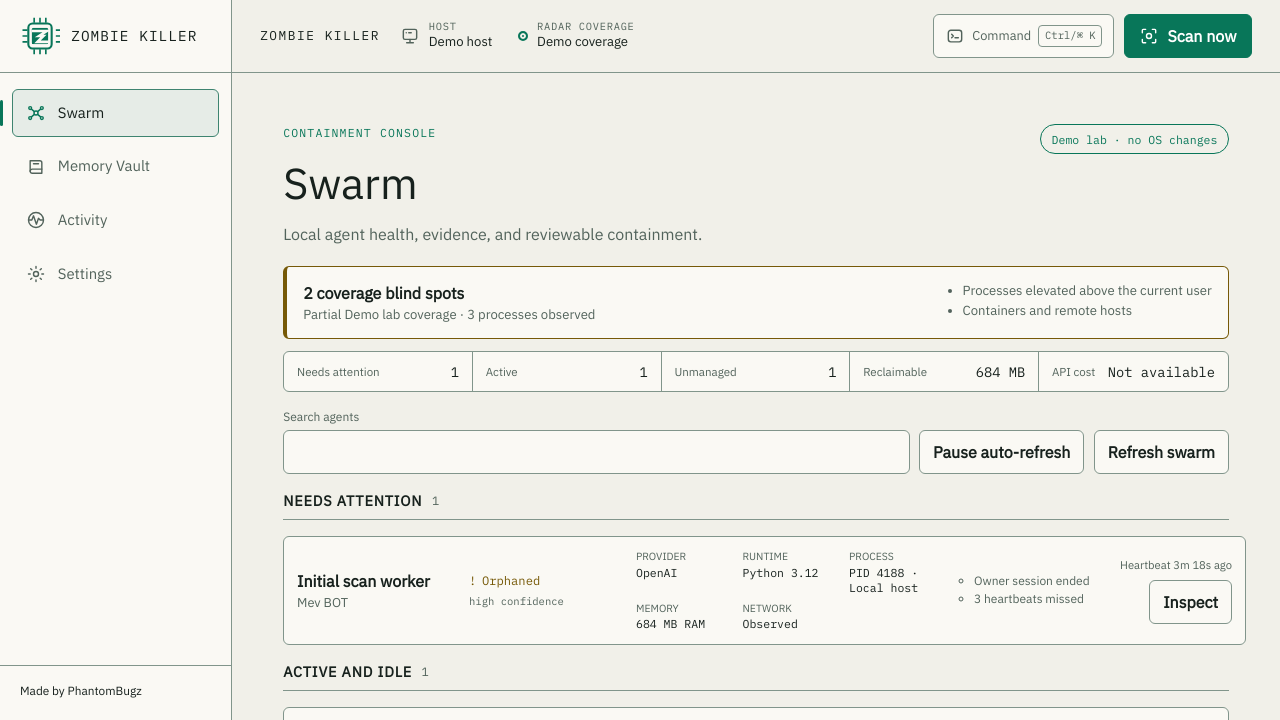
Test case: Containment Console shell › uses a fresh scan when returning to Swarm after an earlier Global Scan
(page scrolled)
Check: the text "Initial scan worker" is shown, box [297, 571, 430, 591]
Click the button "Scan now" at (1188, 36), box [1124, 14, 1252, 58]
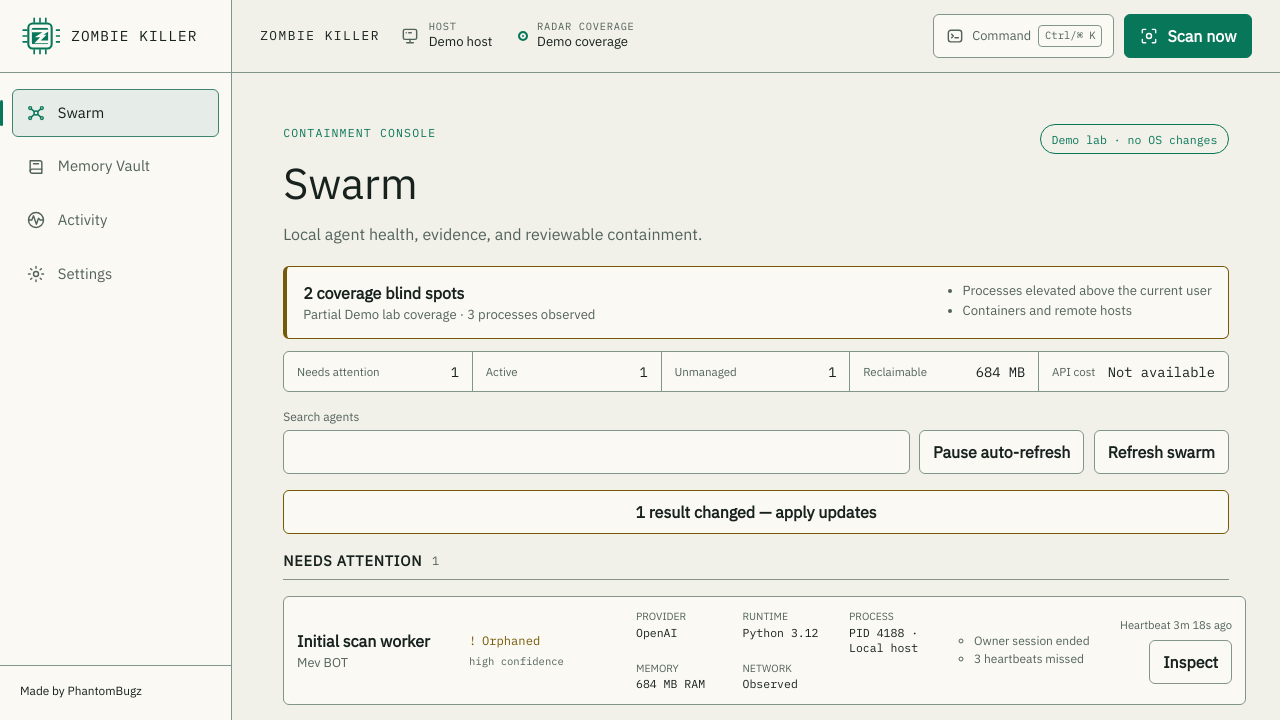
Click the link "Activity" at (67, 220), box [26, 210, 107, 230]
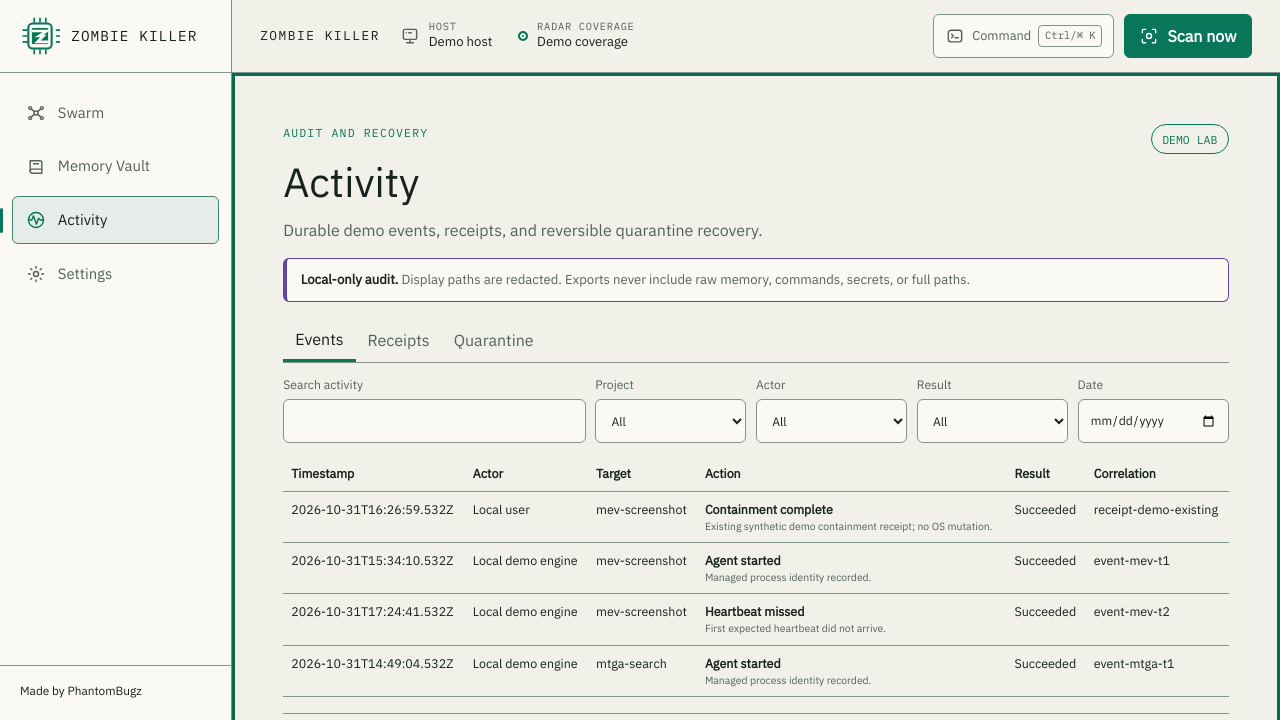
Click the link "Swarm" at (65, 113), box [26, 103, 104, 123]
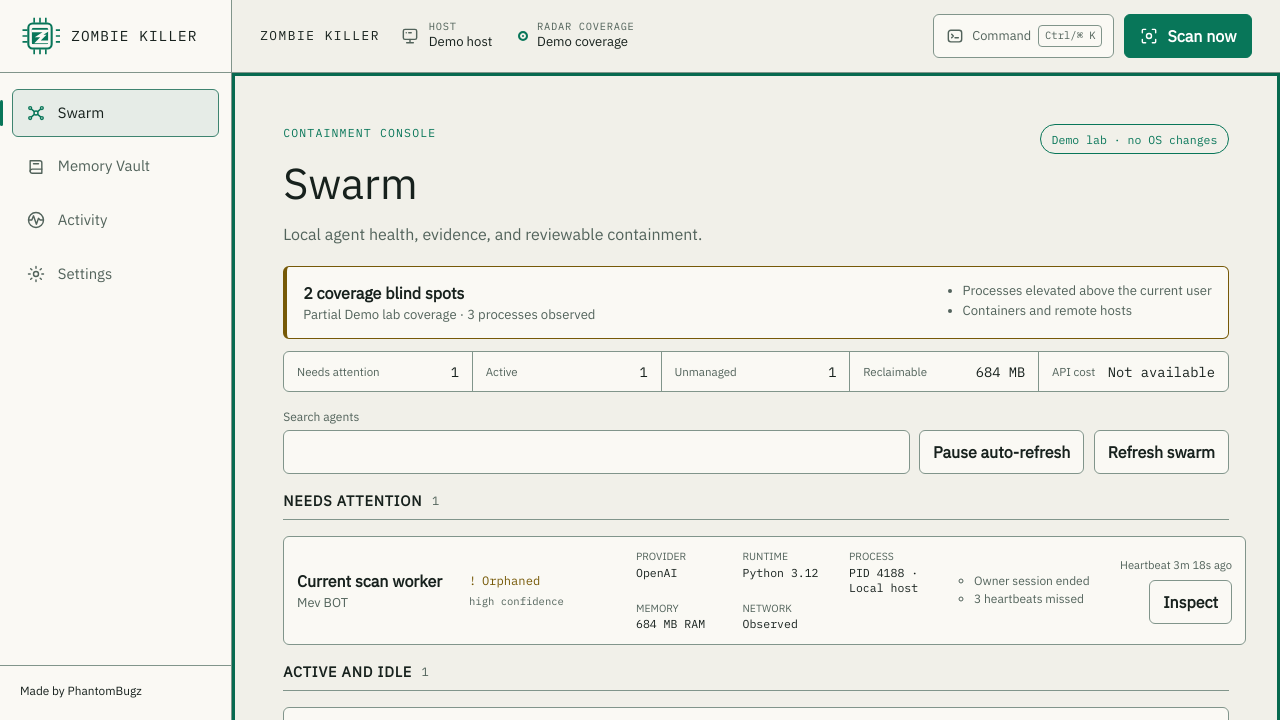
Check: the text "Current scan worker" is shown, box [297, 569, 457, 593]
